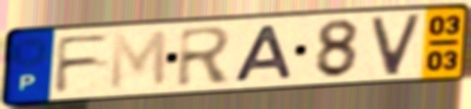8: (313, 18, 362, 80)
A: (230, 24, 295, 84)
F: (52, 31, 115, 96)
M: (107, 28, 169, 93)
R: (174, 24, 235, 90)
V: (368, 11, 425, 78)
